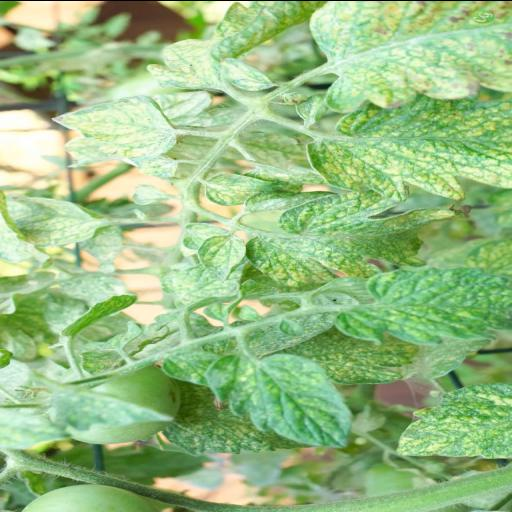disease_tomato: (308, 0, 512, 112), (302, 94, 512, 200), (242, 190, 456, 290), (144, 0, 324, 88), (326, 264, 512, 347), (204, 351, 356, 447), (394, 382, 512, 460), (25, 372, 179, 430), (46, 94, 182, 156), (0, 194, 109, 248), (156, 260, 242, 314), (205, 171, 291, 205), (194, 233, 248, 282), (219, 56, 275, 92)
